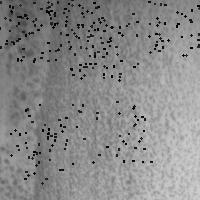pitted_surface: (38, 1, 200, 198), (1, 1, 48, 198), (92, 101, 150, 161), (25, 104, 83, 163), (70, 22, 128, 79), (0, 1, 56, 60), (48, 0, 107, 50), (83, 12, 137, 66), (148, 0, 200, 54), (10, 129, 61, 182), (8, 0, 68, 34)
